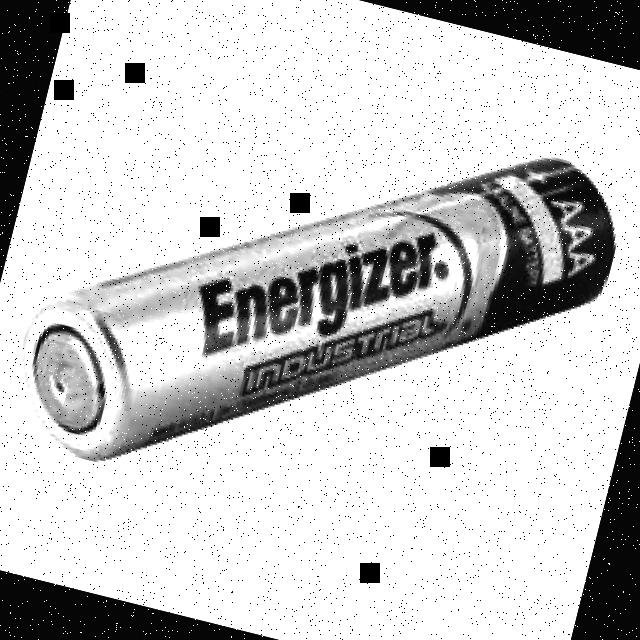battery: (17, 157, 615, 462)
